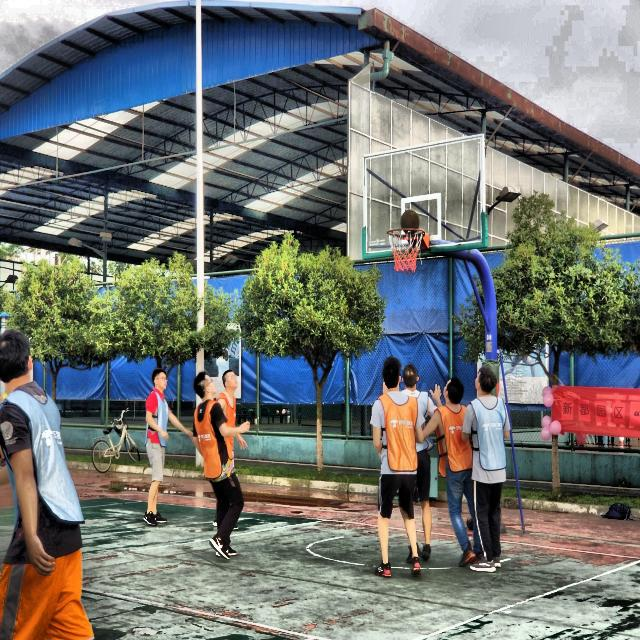rim: (386, 228, 425, 272)
